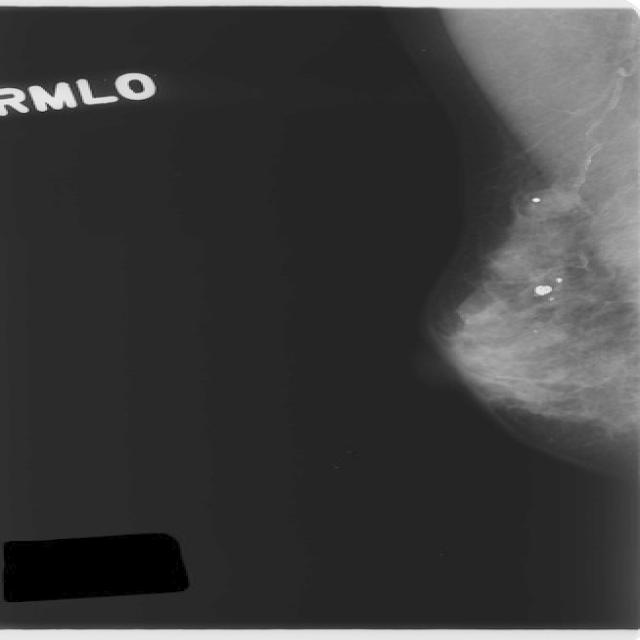tumour: (521, 187, 579, 217)
